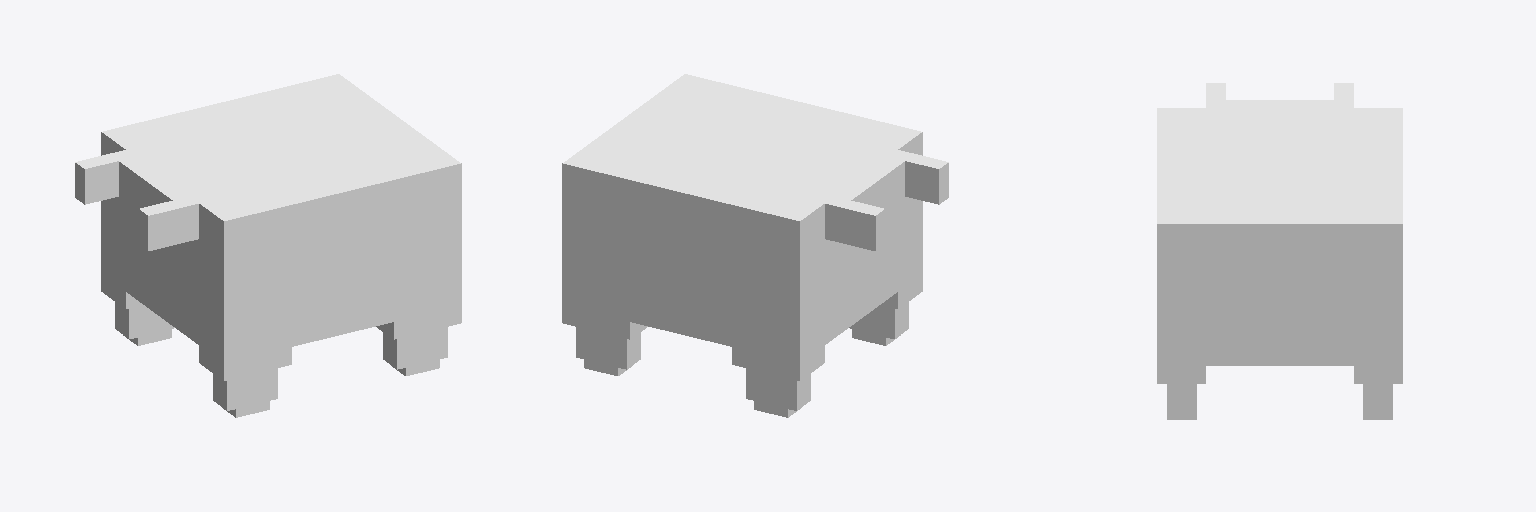
The model's file is shop.obj.
3 renders of one model, left to right at view 1: azimuth 30°, elevation 25°; view 2: azimuth 150°, elevation 25°; view 3: azimuth 270°, elevation 25°, orthographic.
Parts seen in each view (by area): view 1: sale; view 2: sale; view 3: sale.
Boxes of the visible parts, x1,y1,x2,y2 form: sale: [75, 74, 461, 417]; sale: [562, 74, 948, 417]; sale: [1157, 83, 1402, 419].
Bounding box in the file's own units: 3.4 × 2.3 × 2.5.